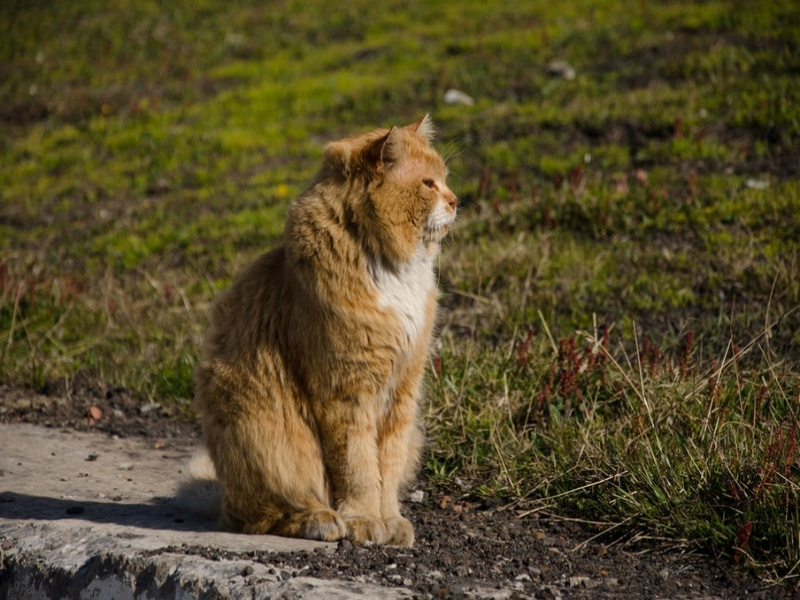cat: (171, 112, 459, 547)
